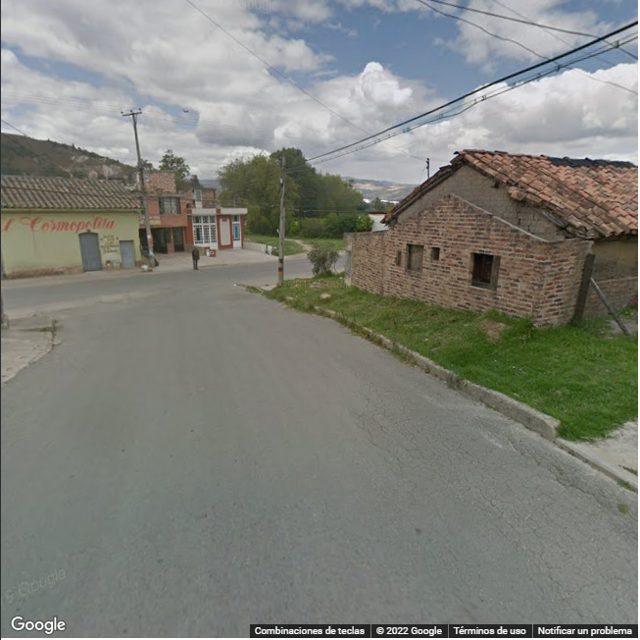D00: (504, 436, 606, 505), (351, 418, 408, 467)
D20: (383, 404, 624, 617)
